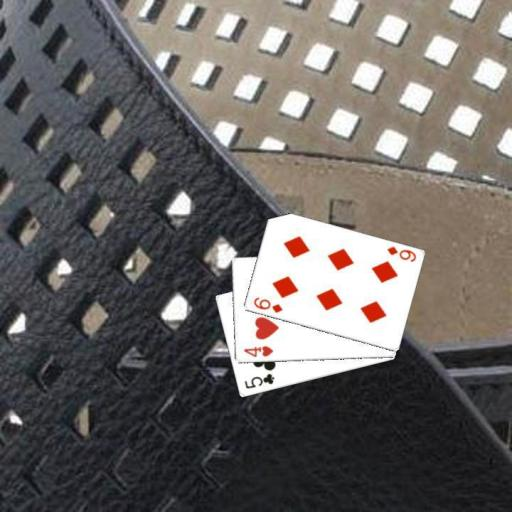card-corner: (384, 243, 417, 264), (241, 370, 275, 390), (250, 294, 284, 314), (240, 343, 274, 358)
